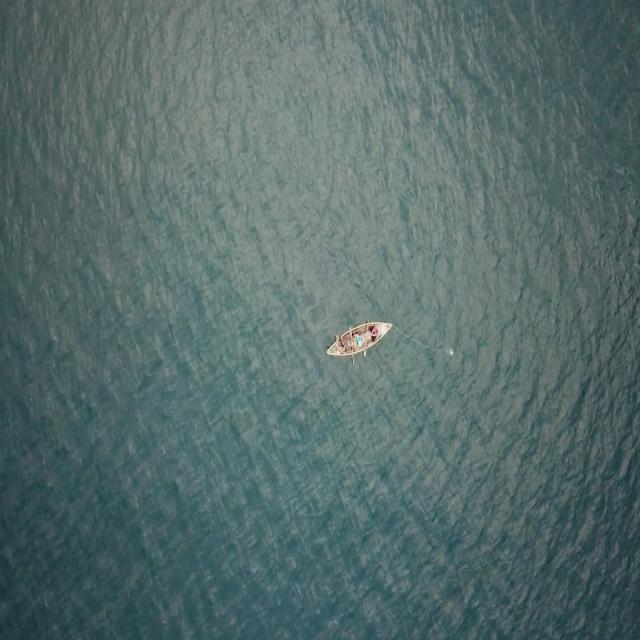ship: (322, 313, 396, 363)
